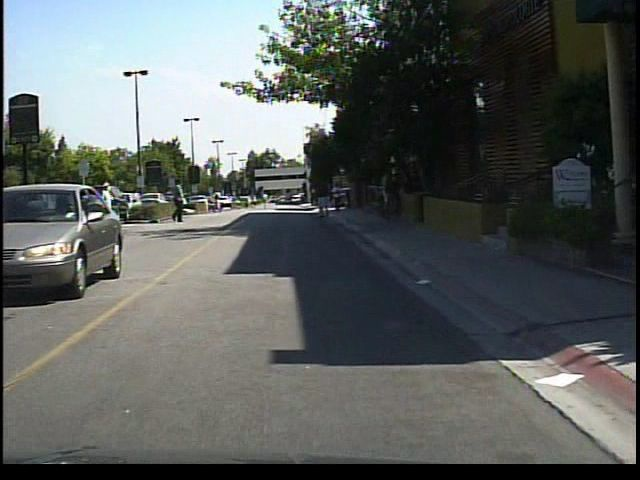person: (378, 159, 402, 226), (314, 167, 340, 221), (98, 176, 121, 228), (168, 174, 190, 225), (67, 181, 86, 230), (330, 177, 347, 215), (211, 186, 226, 214), (260, 189, 276, 212), (405, 163, 406, 218)
